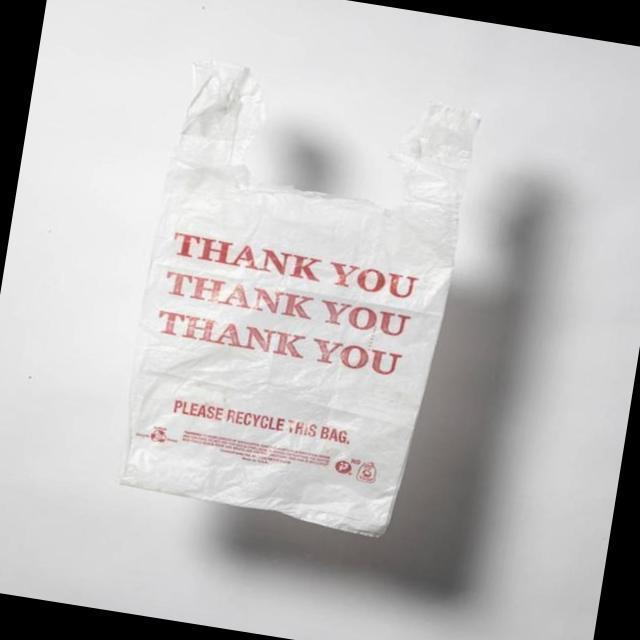Plastic_Bag: (105, 41, 478, 546)
